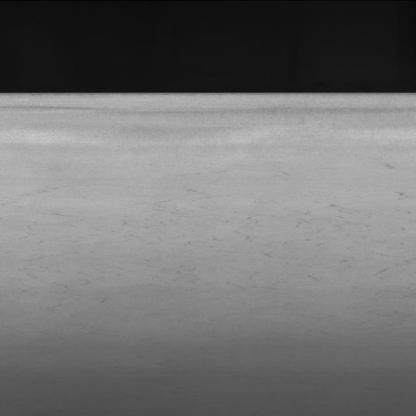silk_spot: (46, 178, 387, 282)
